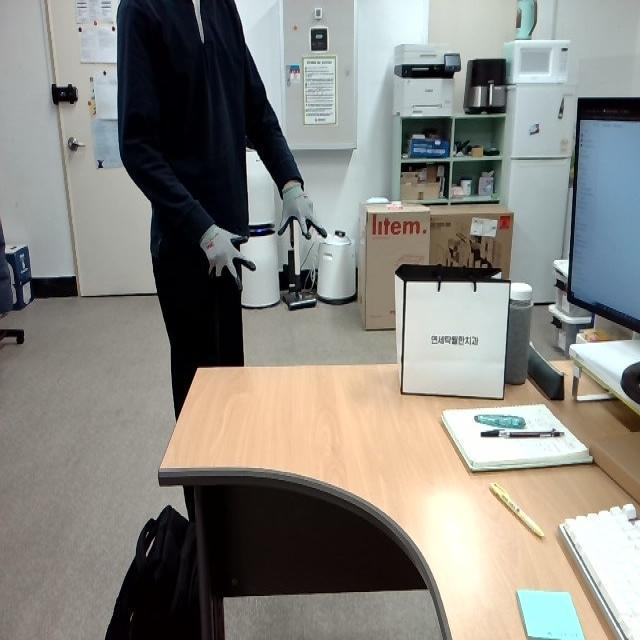gloved_hand: (187, 210, 261, 298), (273, 172, 330, 249)
